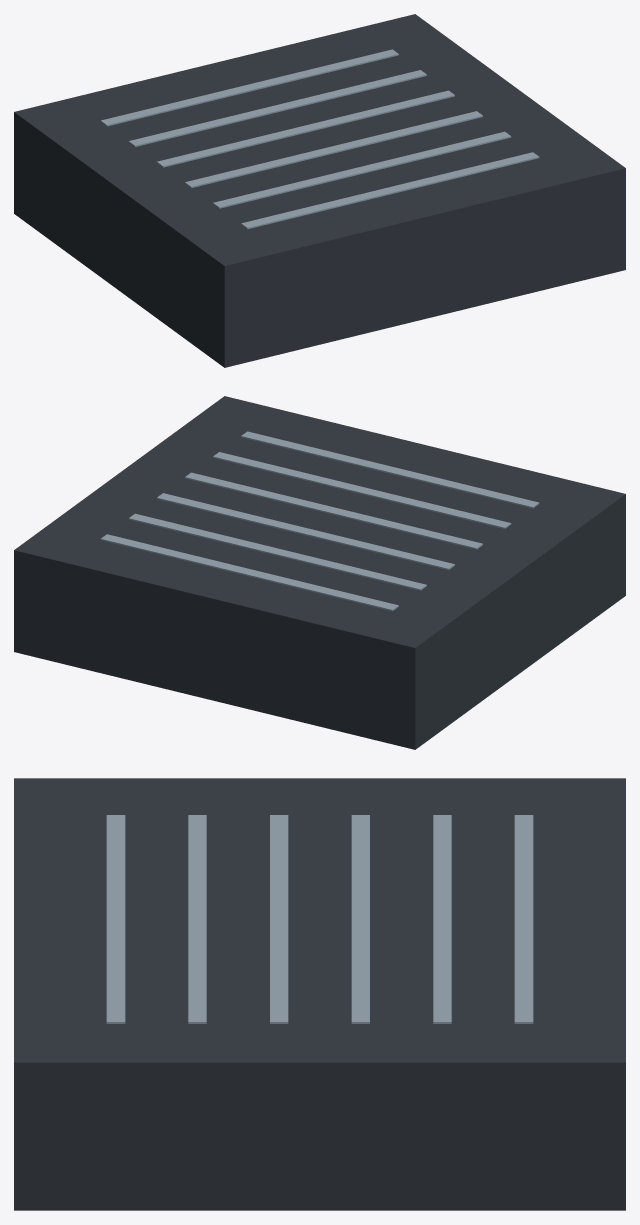
Rendered from 159_L109_Chipset_Shroud.fbx.
3 views of the same model, one above another, from view 1: azimuth 30°, elevation 25°; view 2: azimuth 150°, elevation 25°; view 3: azimuth 270°, elevation 25° (orthographic). The views are drawn at different scales.
Parts seen in each view (by area): view 1: L109_Chipset_Shroud_DARK_METAL, L109_Chipset_Shroud_ALUMINUM; view 2: L109_Chipset_Shroud_DARK_METAL, L109_Chipset_Shroud_ALUMINUM; view 3: L109_Chipset_Shroud_DARK_METAL, L109_Chipset_Shroud_ALUMINUM.
Part boxes in pixels (bbox=[...]): L109_Chipset_Shroud_DARK_METAL: bbox=[14, 14, 625, 367]; L109_Chipset_Shroud_ALUMINUM: bbox=[100, 49, 539, 229]; L109_Chipset_Shroud_DARK_METAL: bbox=[14, 396, 625, 749]; L109_Chipset_Shroud_ALUMINUM: bbox=[100, 431, 539, 611]; L109_Chipset_Shroud_DARK_METAL: bbox=[14, 778, 625, 1210]; L109_Chipset_Shroud_ALUMINUM: bbox=[106, 815, 533, 1023].
Size of the model in its own units: 33 by 30 by 8.11.
